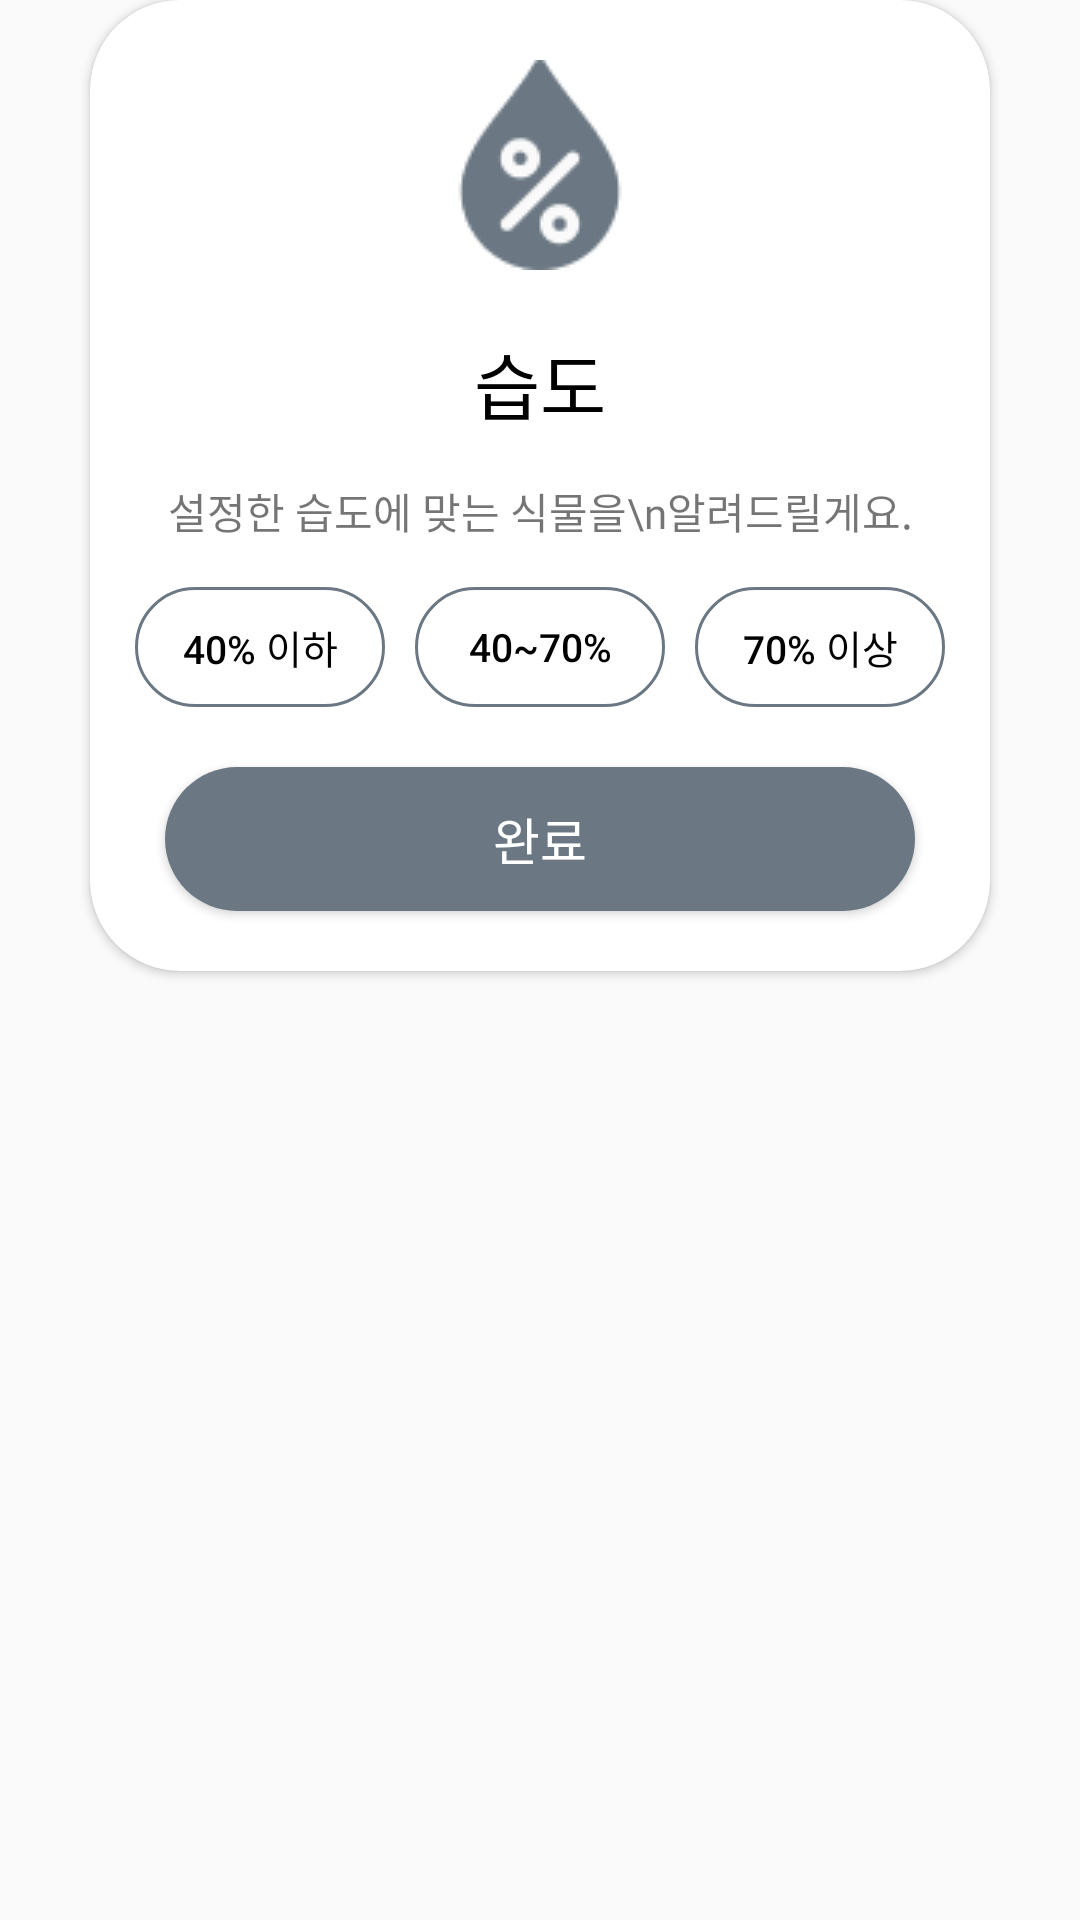

Named icons in this screenshot (1080*1920) and their bounding boxes, (x1, y1, x2, y2):
humidity: (459, 60, 621, 270)
